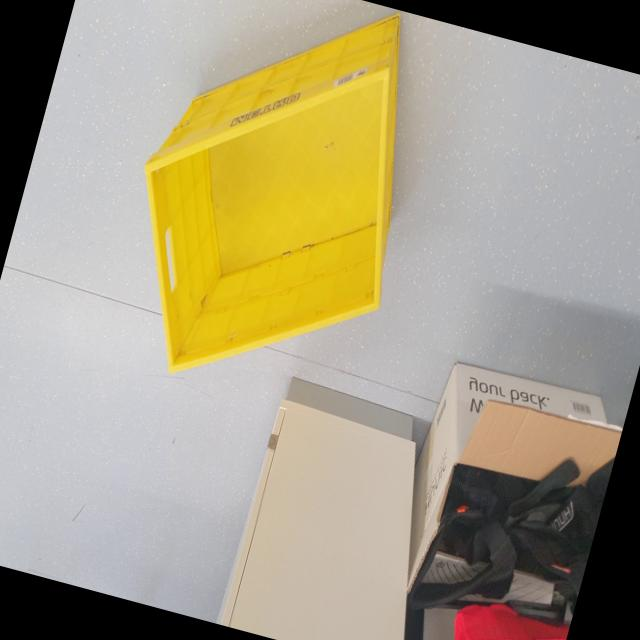box: (87, 0, 453, 433)
